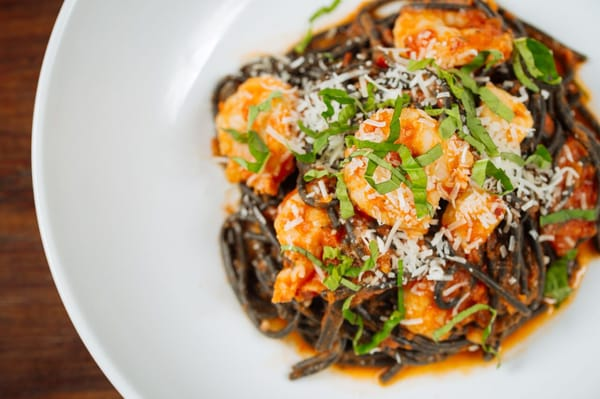sandwich: (211, 0, 599, 382)
